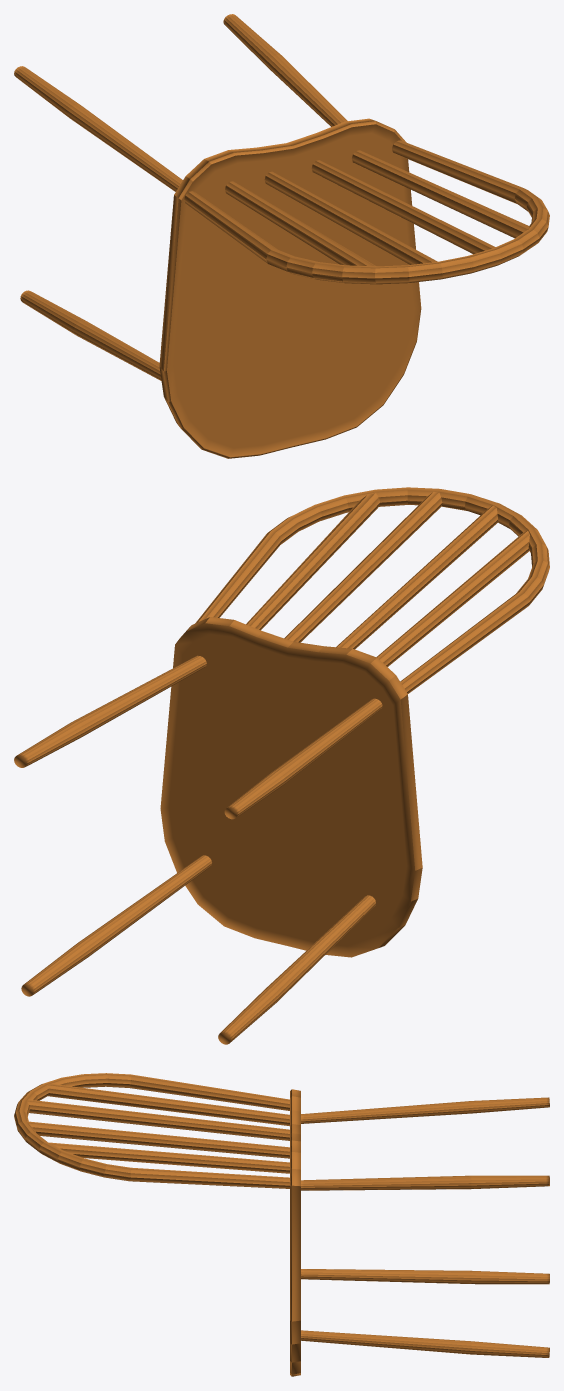
File: MeshChair_1_0.obj
3 views of the same model, one above another, from view 1: azimuth 30°, elevation 25°; view 2: azimuth 150°, elevation 25°; view 3: azimuth 270°, elevation 25° (orthographic). The views are drawn at different scales.
Visible parts, largest first — view 1: Chair_1; view 2: Chair_1; view 3: Chair_1.
Boxes of the visible parts, bbox=[...] form: Chair_1: bbox=[14, 14, 549, 458]; Chair_1: bbox=[14, 487, 549, 1044]; Chair_1: bbox=[14, 1073, 549, 1376].
Size of the model in its own units: 0.5392 by 0.6239 by 1.23.
